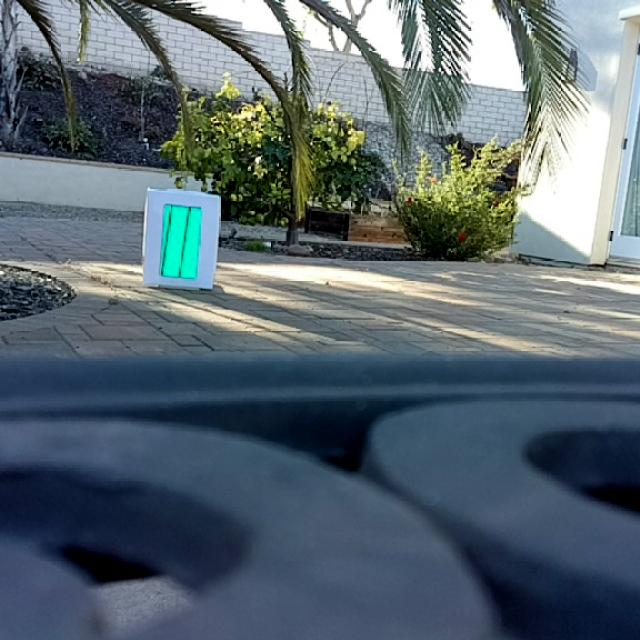led: (159, 203, 202, 280)
